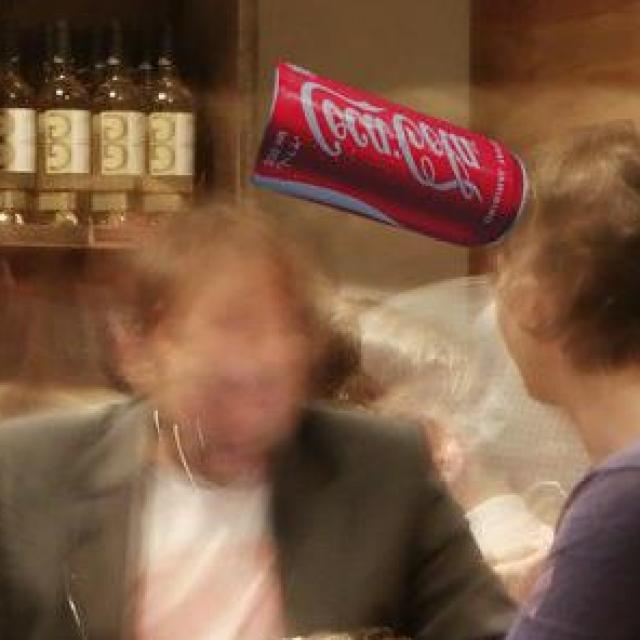logam: (256, 57, 529, 243)
